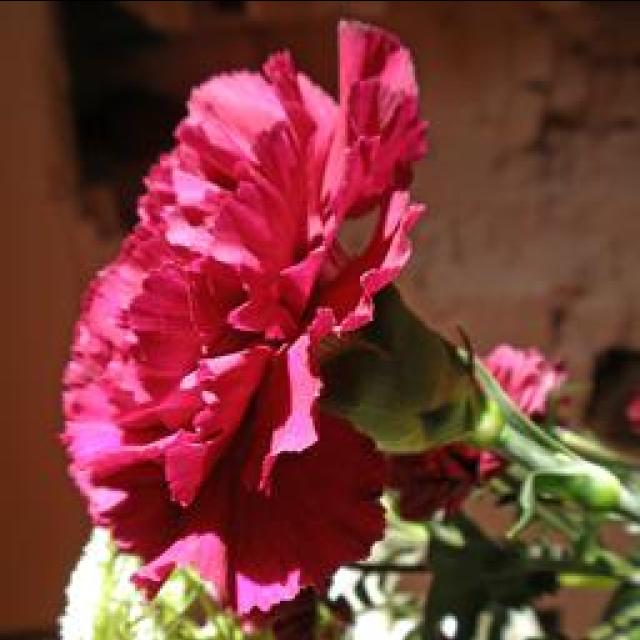carnation: (32, 35, 460, 590)
